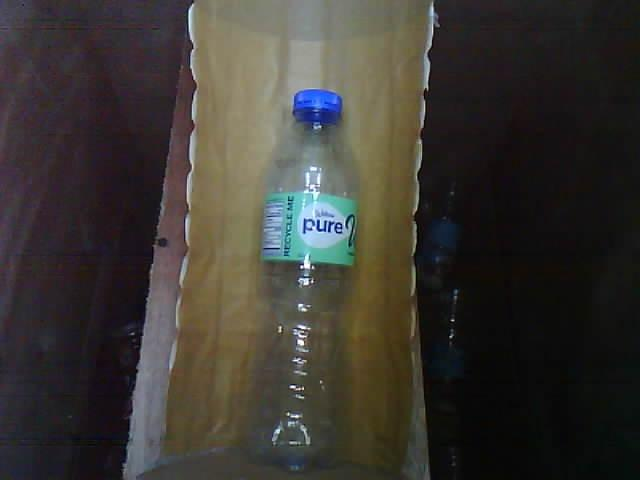small_bottle: (235, 78, 378, 480)
